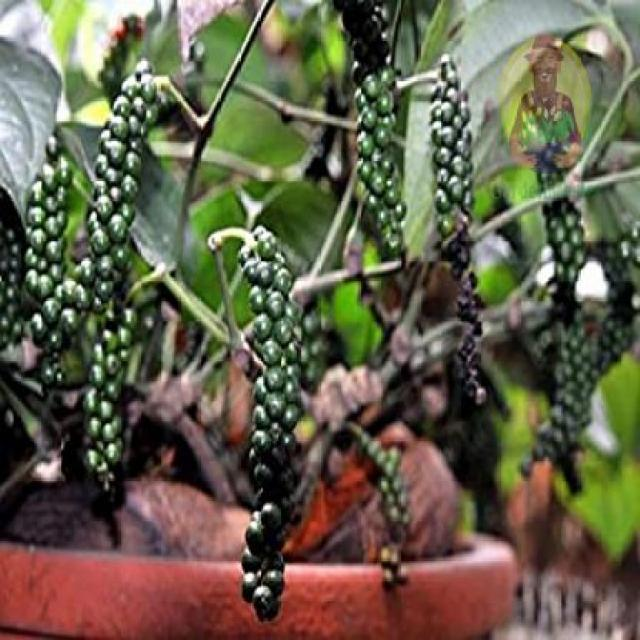UNRIPE: (218, 208, 294, 626), (86, 65, 134, 511), (23, 132, 80, 391), (538, 206, 594, 462), (345, 52, 409, 243), (423, 39, 477, 239)
